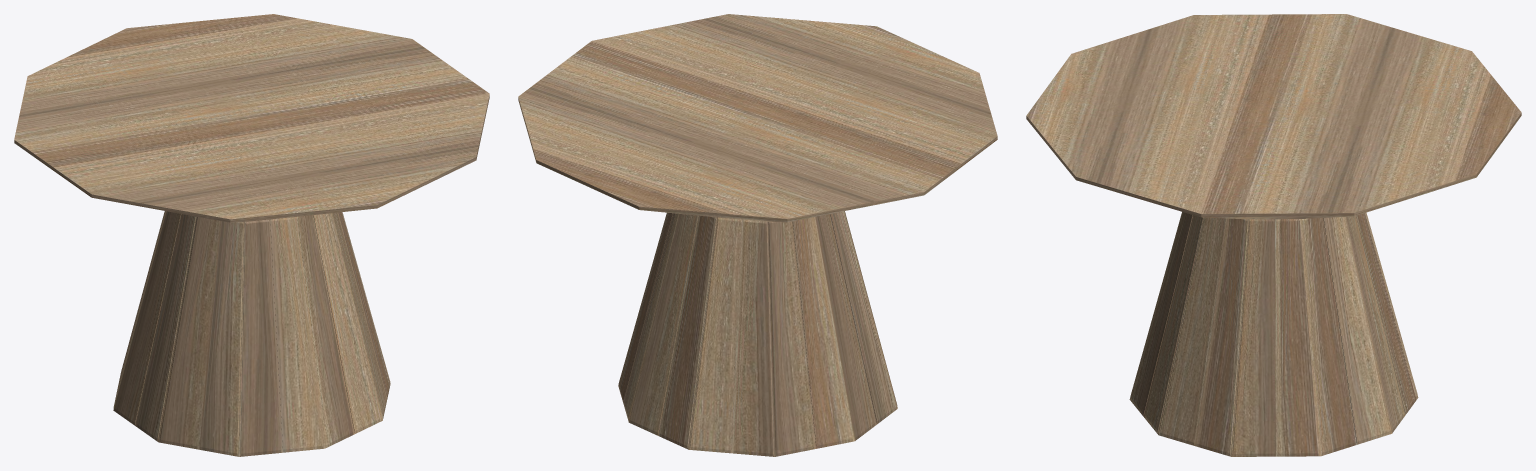
The picture shows the model from 3 angles, left to right: view 1: azimuth 30°, elevation 25°; view 2: azimuth 150°, elevation 25°; view 3: azimuth 270°, elevation 25°; orthographic projection.
Visible parts, largest first — view 1: RootNode; view 2: RootNode; view 3: RootNode.
Boxes of the visible parts, x1=… form: RootNode: x1=14, y1=14, x2=489, y2=456; RootNode: x1=518, y1=14, x2=997, y2=456; RootNode: x1=1026, y1=14, x2=1521, y2=456.
Bounding box in the file's own units: 1.13 × 0.752 × 1.19.
1 material, 1 textured.
